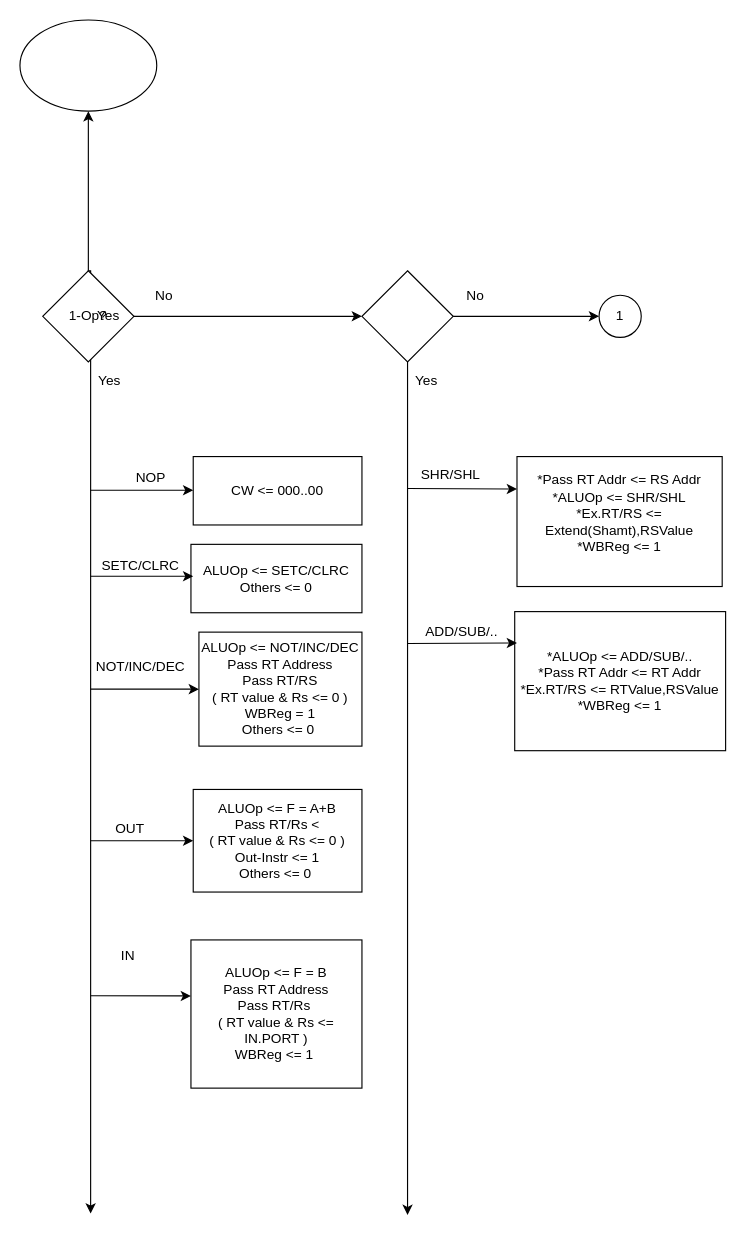
This 746x1245 diagram has some shape labels left out. Here are the shapes that lost their labels. From the top down, the centre of each, then its label:
At pixel 88 65: "Start".
At pixel 407 316: "2-Op?".
